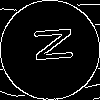N: (25, 25, 73, 64)
